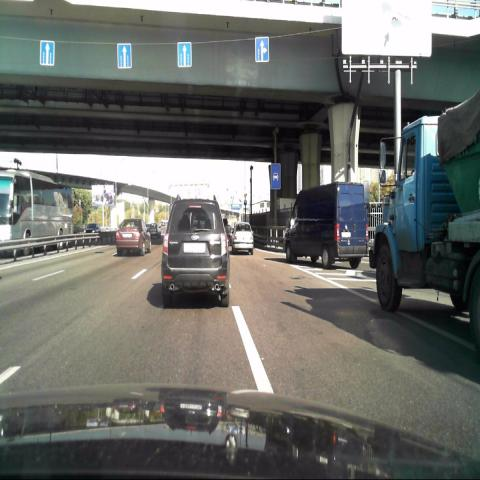5_3: (270, 163, 282, 189)
